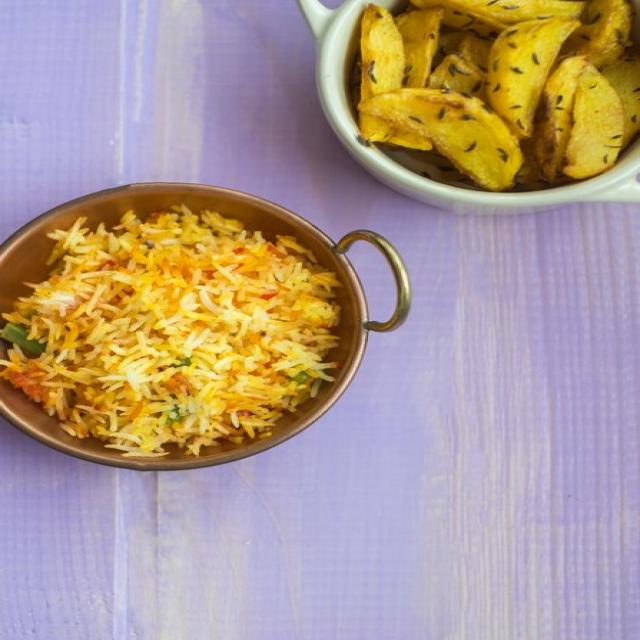POHA: (1, 205, 336, 450)
